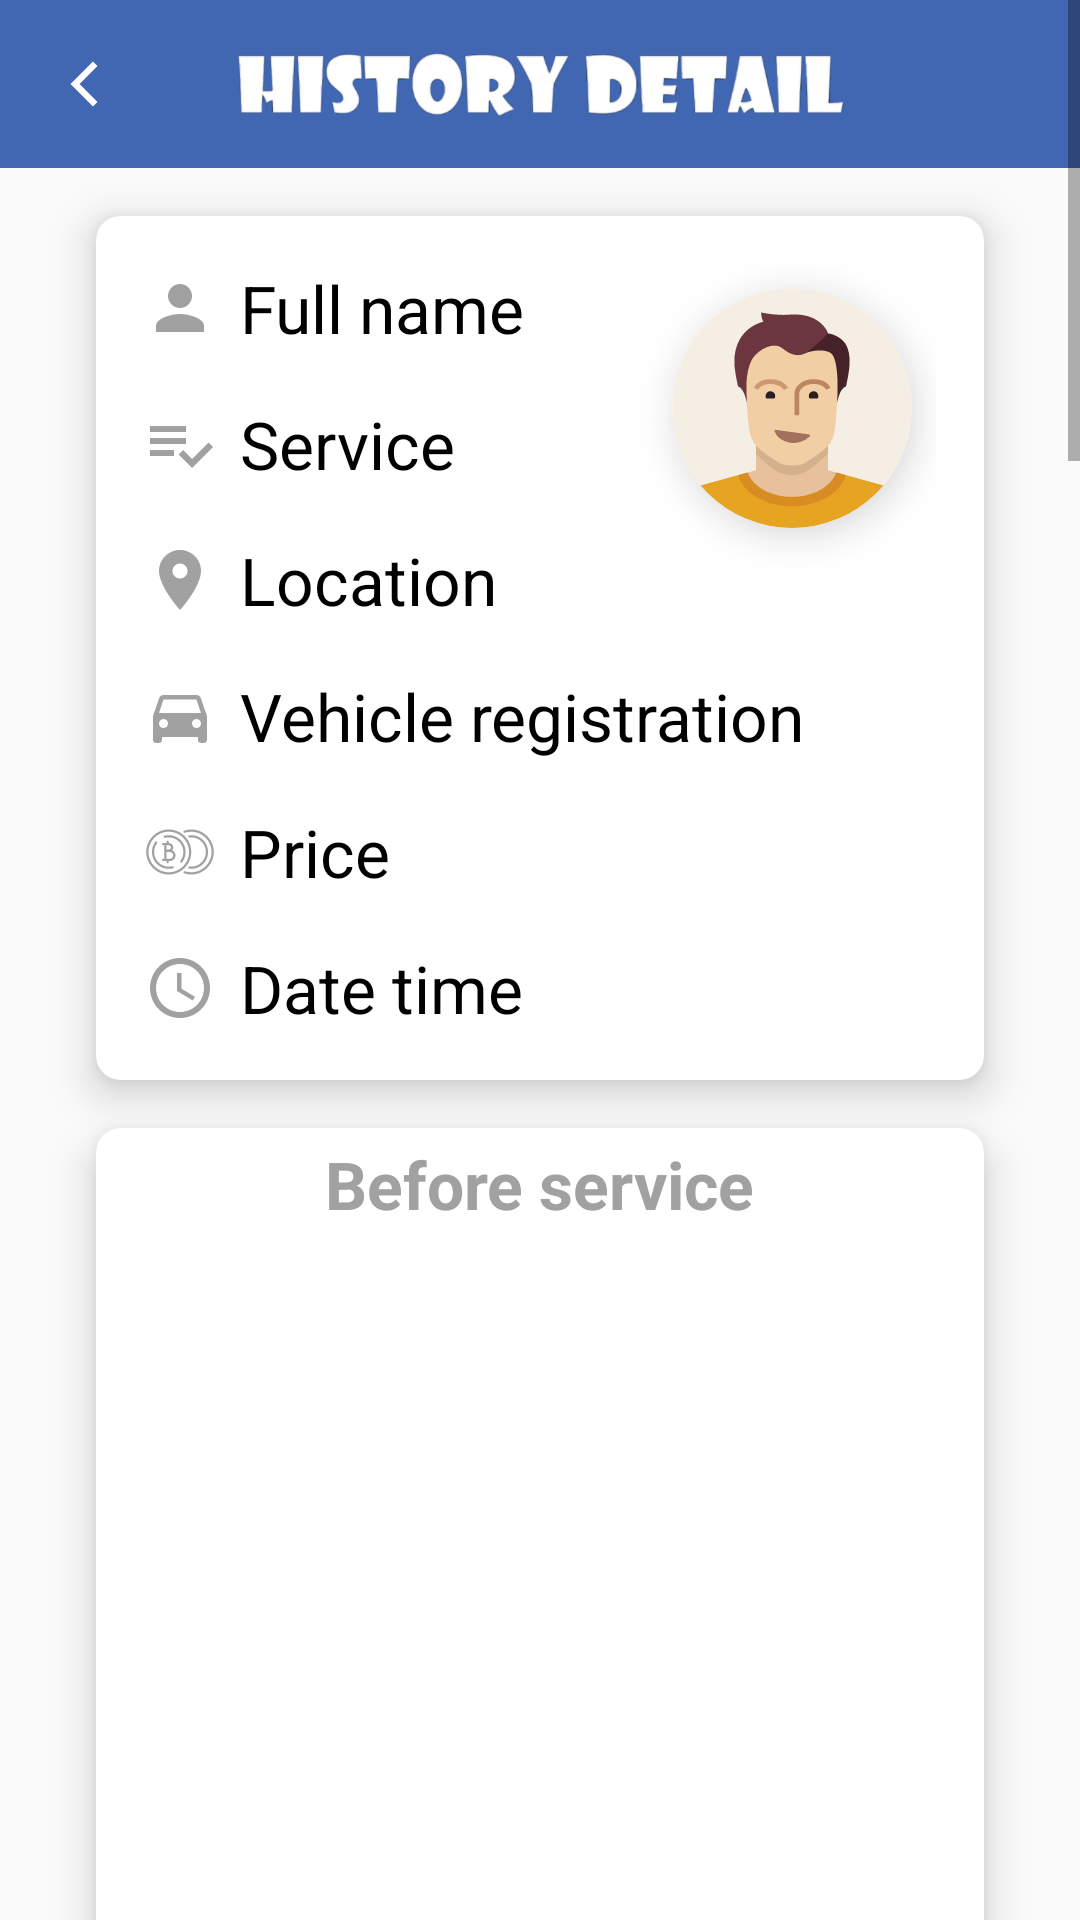

Locate icon controls on the screen. Image size 1080x1920, boxes as bbox=(x1, y1, x2, y2).
baht: bbox=(146, 829, 214, 875)
car: bbox=(153, 695, 207, 743)
list job: bbox=(150, 426, 213, 468)
person: bbox=(156, 284, 204, 332)
